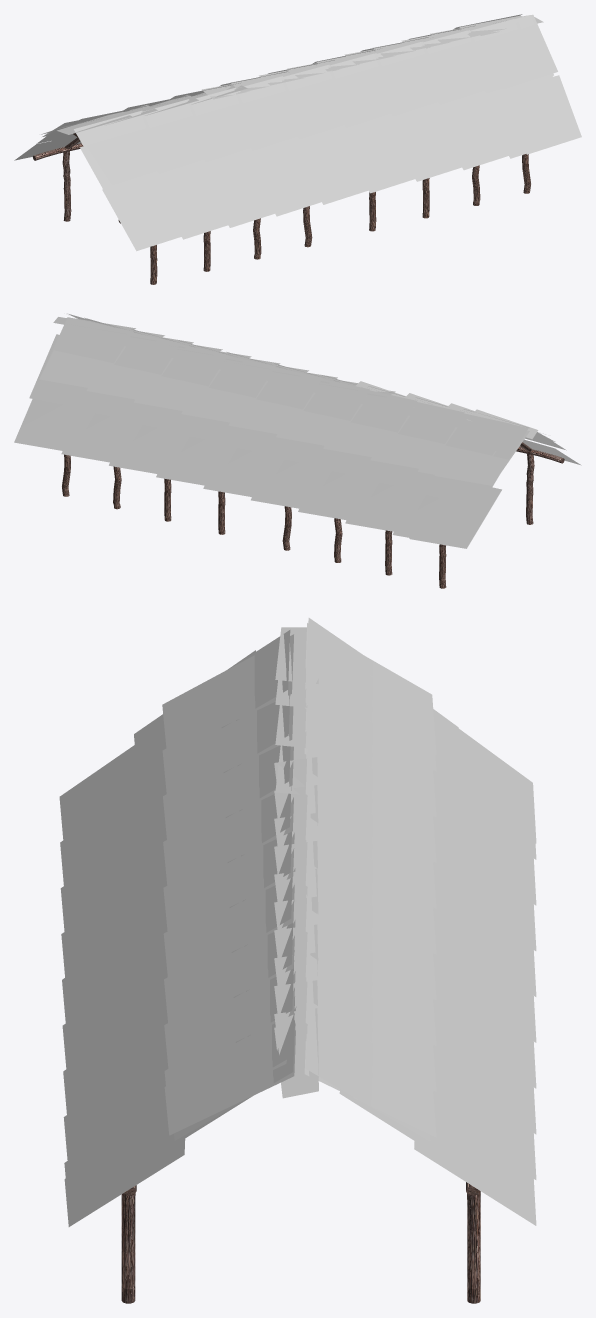
The model's file is cabana quadrada.fbx.
3 renders of one model, top to bottom at view 1: azimuth 30°, elevation 25°; view 2: azimuth 150°, elevation 25°; view 3: azimuth 270°, elevation 25°, orthographic. The views are drawn at different scales.
Parts seen in each view (by area): view 1: HUt, Cylinder; view 2: HUt, Cylinder; view 3: HUt, Cylinder.
Boxes of the visible parts, x1,y1,x2,y2 form: HUt: (14, 14, 581, 251); Cylinder: (33, 133, 530, 284); HUt: (14, 313, 581, 548); Cylinder: (62, 442, 564, 588); HUt: (59, 618, 536, 1226); Cylinder: (121, 1182, 480, 1303).
Size of the model in its own units: 2757 by 760 by 1189.
